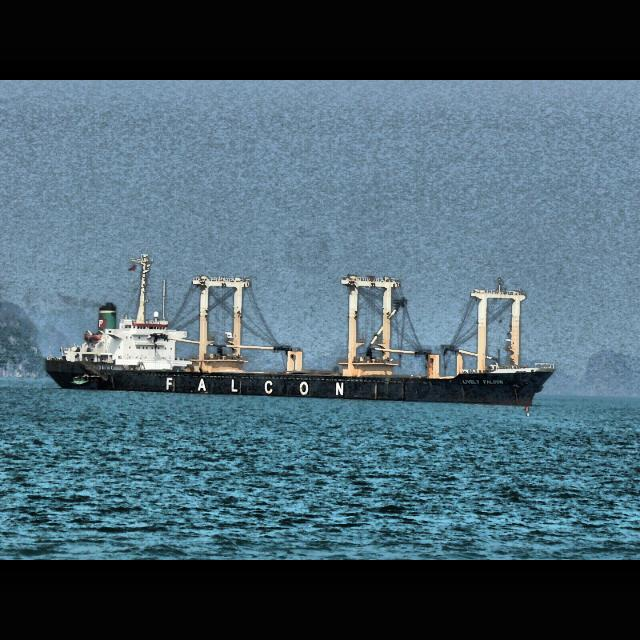bulk_carrier: (45, 252, 557, 408)
